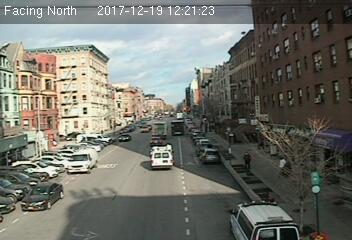car: (23, 179, 62, 212), (199, 147, 220, 164), (117, 133, 131, 143)
pedestrian: (242, 150, 251, 173)
police: (225, 200, 305, 240)
truck: (67, 148, 98, 174), (150, 150, 173, 169)
ups: (170, 119, 185, 136)
